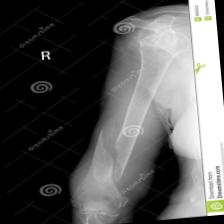spiral-fracture: (51, 0, 207, 224)
